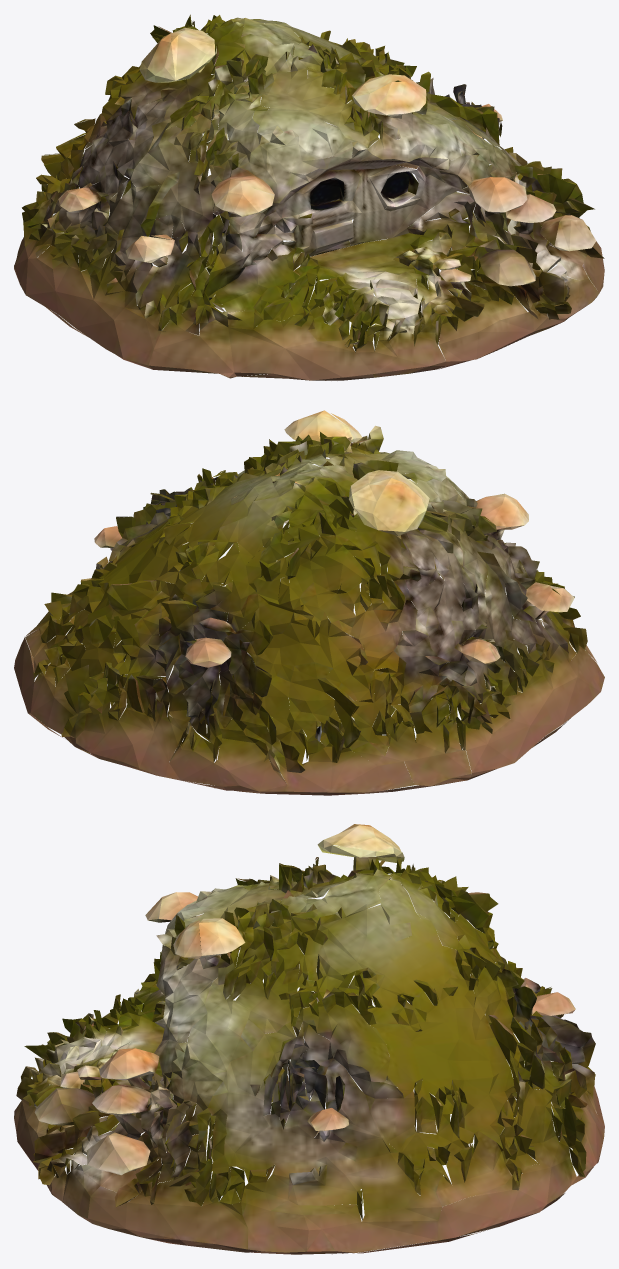
The model's file is wt-bog-hummock.glb.
The picture shows the model from 3 angles, top to bottom: view 1: azimuth 30°, elevation 25°; view 2: azimuth 150°, elevation 25°; view 3: azimuth 270°, elevation 25°; orthographic projection. The views are drawn at different scales.
Visible parts, largest first — view 1: tmp08_9ry3h.ply; view 2: tmp08_9ry3h.ply; view 3: tmp08_9ry3h.ply.
Part boxes in pixels (x1,y1,x2,y2): tmp08_9ry3h.ply: (14, 14, 604, 380); tmp08_9ry3h.ply: (14, 410, 604, 795); tmp08_9ry3h.ply: (14, 824, 604, 1254).
Size of the model in its own units: 7 by 3.27 by 6.96.
1 material, 1 textured.
